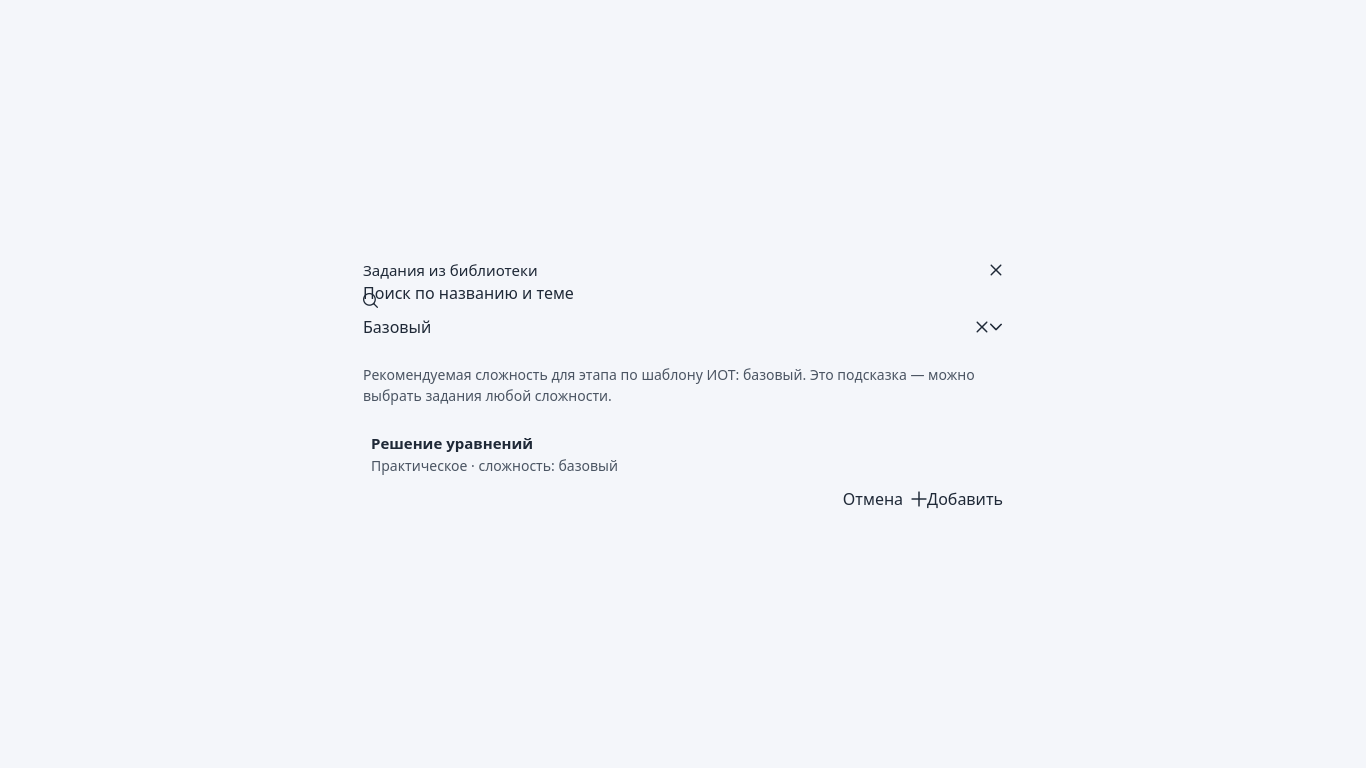
Test: выбор заданий библиотеки › FR-047, FR-033: изначально — рекомендуемая сложность этапа, фильтр можно сбросить
The image size is (1366, 768).
Expected: the text "Исследовательский проект" is not shown
Click the 3rd icon at (982, 327), box [975,320,989,334]
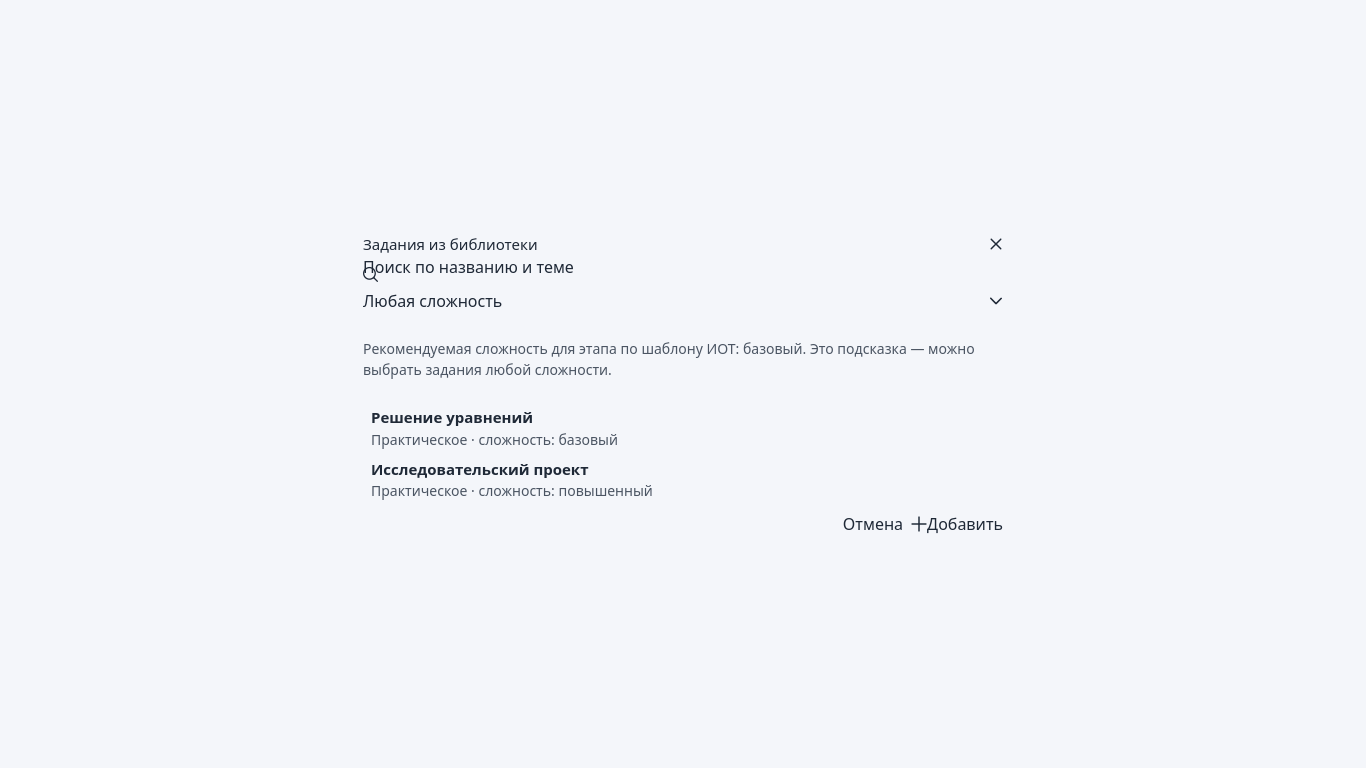
Expected: the text "Исследовательский проект" is shown, [371,458,588,478]
